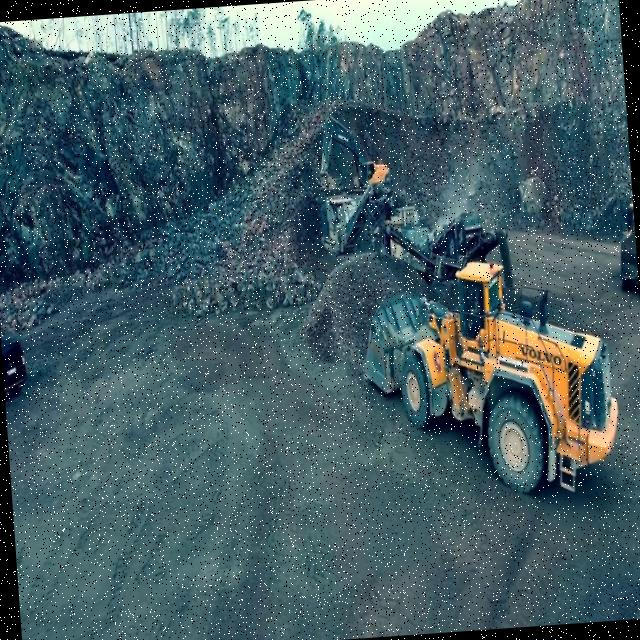Excavator: (312, 105, 392, 194)
Loader: (354, 249, 625, 510), (610, 198, 638, 290)
